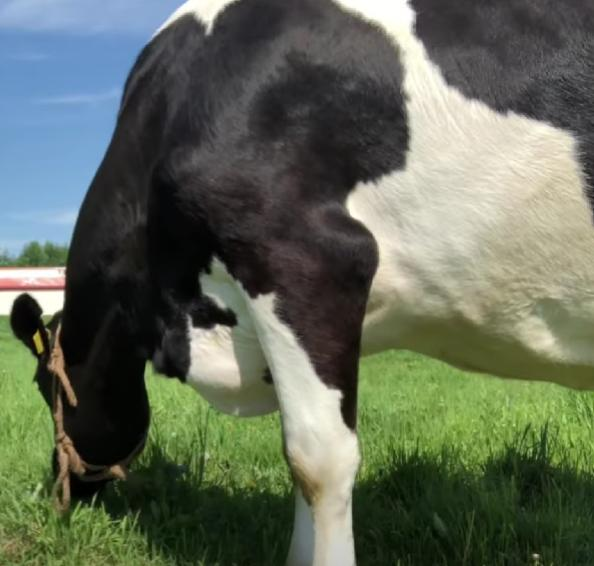cow: (14, 0, 594, 566)
